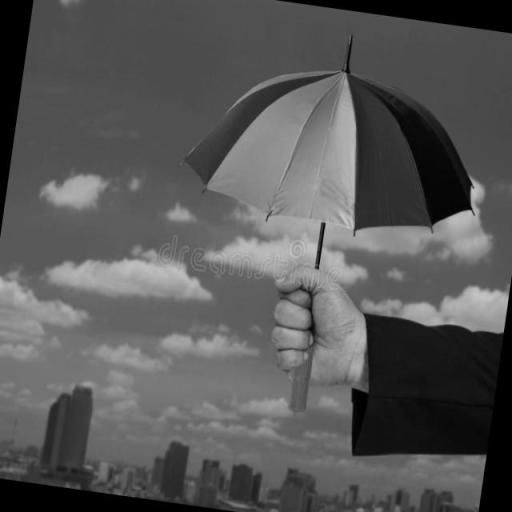guarda_chuva: (179, 33, 475, 411)
